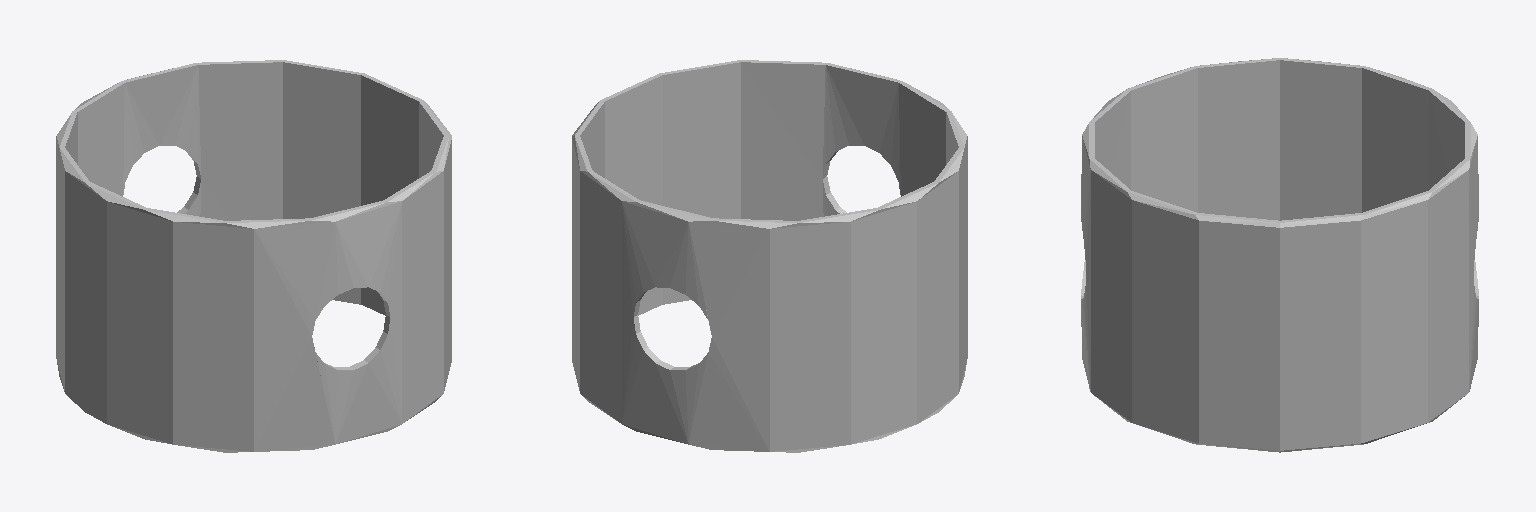
Rendered from 75. Втулка шестерни второй передачи.obj.
The picture shows the model from 3 angles: view 1: azimuth 30°, elevation 25°; view 2: azimuth 150°, elevation 25°; view 3: azimuth 270°, elevation 25°; orthographic projection.
Visible parts, largest first — view 1: Твердое тело1; view 2: Твердое тело1; view 3: Твердое тело1.
Part boxes in pixels (x1,y1,x2,y2): Твердое тело1: (56, 60, 451, 452); Твердое тело1: (572, 60, 967, 452); Твердое тело1: (1081, 58, 1478, 452).
Bounding box in the file's own units: 43.6 × 28 × 44.